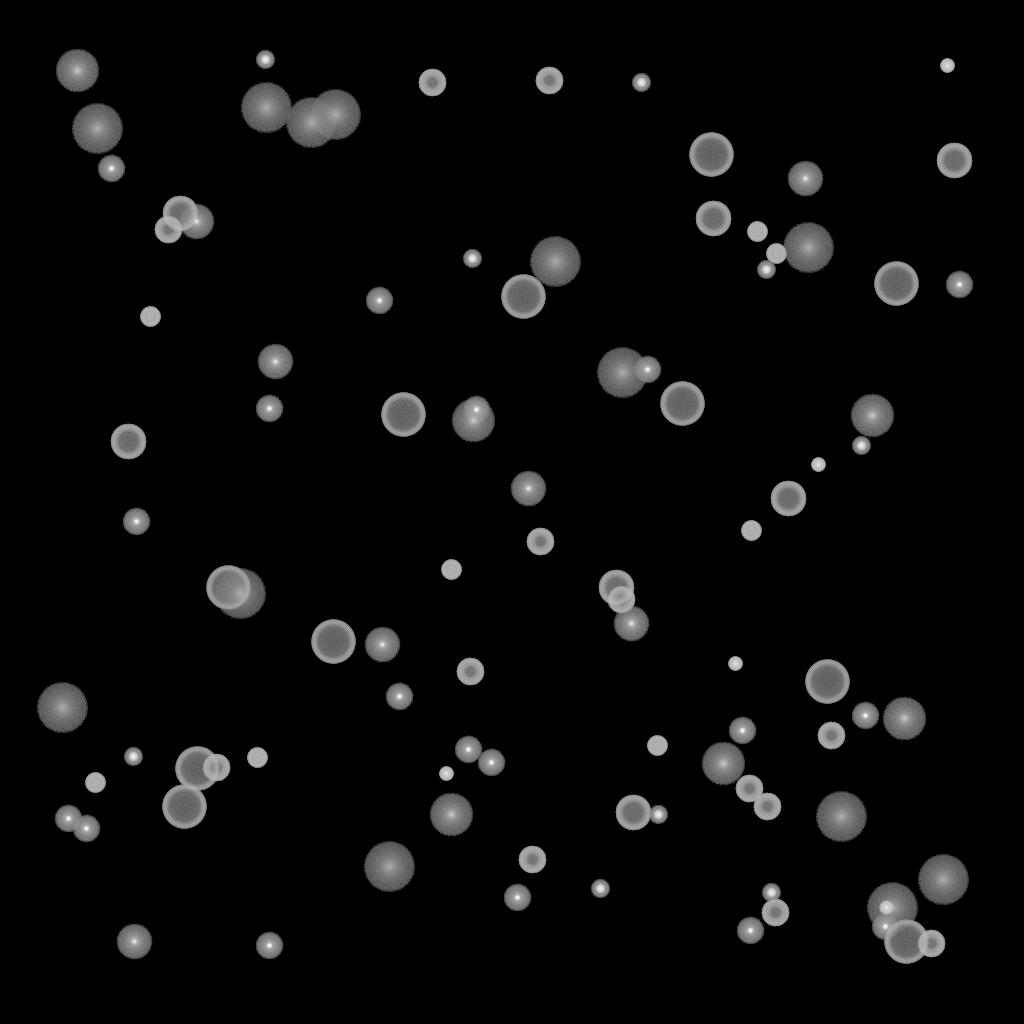depth:-10: (122, 508, 150, 536), (54, 805, 82, 833), (462, 396, 490, 424), (97, 155, 125, 183), (72, 815, 100, 843), (477, 749, 505, 777), (503, 884, 531, 912), (454, 736, 482, 764), (365, 287, 393, 315), (945, 271, 973, 299), (633, 356, 661, 384), (255, 395, 283, 423), (851, 702, 879, 730), (736, 917, 764, 945), (728, 717, 756, 745), (255, 932, 283, 960), (871, 913, 899, 941), (385, 683, 413, 711)
depth:-20: (852, 437, 870, 455), (591, 880, 609, 898), (757, 261, 775, 279), (762, 884, 780, 902), (463, 250, 481, 268), (124, 748, 142, 766), (256, 51, 274, 69), (632, 74, 650, 92), (649, 806, 667, 824)
depth:-30: (940, 59, 954, 73), (728, 657, 742, 671), (811, 458, 825, 472), (879, 901, 893, 915), (439, 767, 453, 781)
depth:-40: (85, 773, 105, 793), (647, 736, 667, 756), (747, 222, 767, 242), (766, 244, 786, 264), (140, 307, 160, 327), (247, 748, 267, 768), (441, 560, 461, 580), (741, 521, 761, 541)
depth:-50: (418, 69, 446, 97), (753, 793, 781, 821), (917, 930, 945, 958), (535, 67, 563, 95), (607, 586, 635, 614), (735, 775, 763, 803), (761, 899, 789, 927), (154, 216, 182, 244), (518, 846, 546, 874), (526, 528, 554, 556), (817, 722, 845, 750), (456, 658, 484, 686), (202, 754, 230, 782)
depth:-60: (110, 424, 146, 460), (615, 795, 651, 831), (695, 201, 731, 237), (162, 196, 198, 232), (598, 570, 634, 606), (770, 481, 806, 517), (936, 143, 972, 179)
depth:-70: (501, 275, 545, 319), (660, 382, 704, 426), (689, 133, 733, 177), (805, 660, 849, 704), (206, 566, 250, 610), (311, 620, 355, 664), (381, 393, 425, 437), (884, 920, 928, 964), (162, 785, 206, 829), (175, 747, 219, 791), (874, 262, 918, 306)
depth:0: (257, 344, 293, 380), (510, 471, 546, 507), (613, 606, 649, 642), (787, 161, 823, 197), (364, 627, 400, 663), (178, 204, 214, 240), (116, 924, 152, 960)
depth:10: (850, 394, 894, 438), (451, 399, 495, 443), (55, 49, 99, 93), (882, 697, 926, 741), (429, 793, 473, 837), (701, 742, 745, 786)
depth:20: (596, 348, 648, 398), (363, 842, 415, 892), (782, 223, 834, 273), (285, 98, 337, 148), (71, 104, 123, 154), (309, 90, 361, 140), (529, 237, 581, 287), (214, 569, 266, 619), (36, 683, 88, 733), (240, 83, 292, 133), (815, 792, 867, 842), (866, 883, 918, 933), (917, 855, 969, 905)
